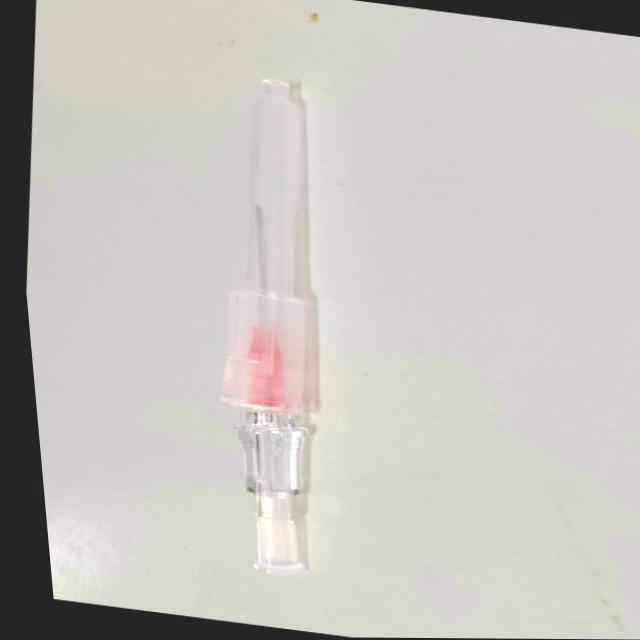Pathological: (25, 1, 638, 636)
Sharps: (220, 75, 322, 574)
